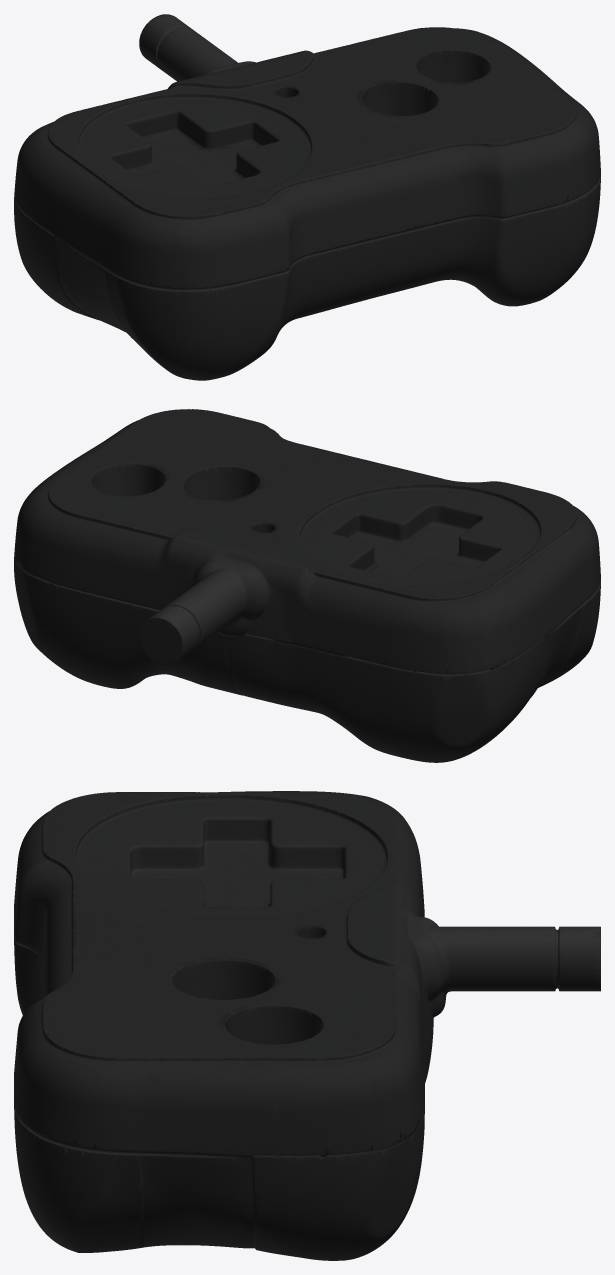
File: Meshy_AI_controller_1000_0314183922_texture.glb
3 renders of one model, top to bottom at view 1: azimuth 30°, elevation 25°; view 2: azimuth 150°, elevation 25°; view 3: azimuth 270°, elevation 25°, orthographic. The views are drawn at different scales.
Size of the model in its own units: 1.9 by 0.6623 by 1.56.
1 material, 1 textured.
